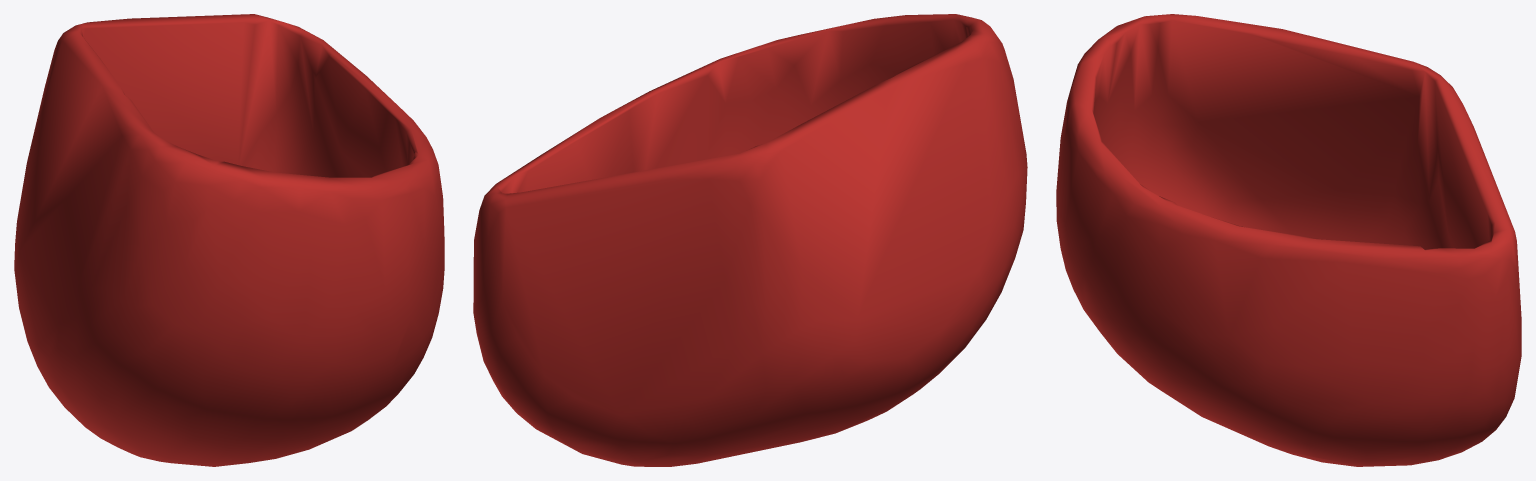
The model's file is circulatorio-anterior-semilunar-leaflet-of-pulmonary-valve.glb.
The picture shows the model from 3 angles, left to right: view 1: azimuth 30°, elevation 25°; view 2: azimuth 150°, elevation 25°; view 3: azimuth 270°, elevation 25°; orthographic projection. The views are drawn at different scales.
Visible parts, largest first — view 1: Anterior semilunar leaflet of pulmonary valve; view 2: Anterior semilunar leaflet of pulmonary valve; view 3: Anterior semilunar leaflet of pulmonary valve.
Boxes of the visible parts, left/top/right/bottom form: Anterior semilunar leaflet of pulmonary valve: left=14, top=14, right=444, bottom=466; Anterior semilunar leaflet of pulmonary valve: left=473, top=14, right=1027, bottom=466; Anterior semilunar leaflet of pulmonary valve: left=1056, top=14, right=1521, bottom=466.
Size of the model in its own units: 0.0185 by 0.0172 by 0.0208.
